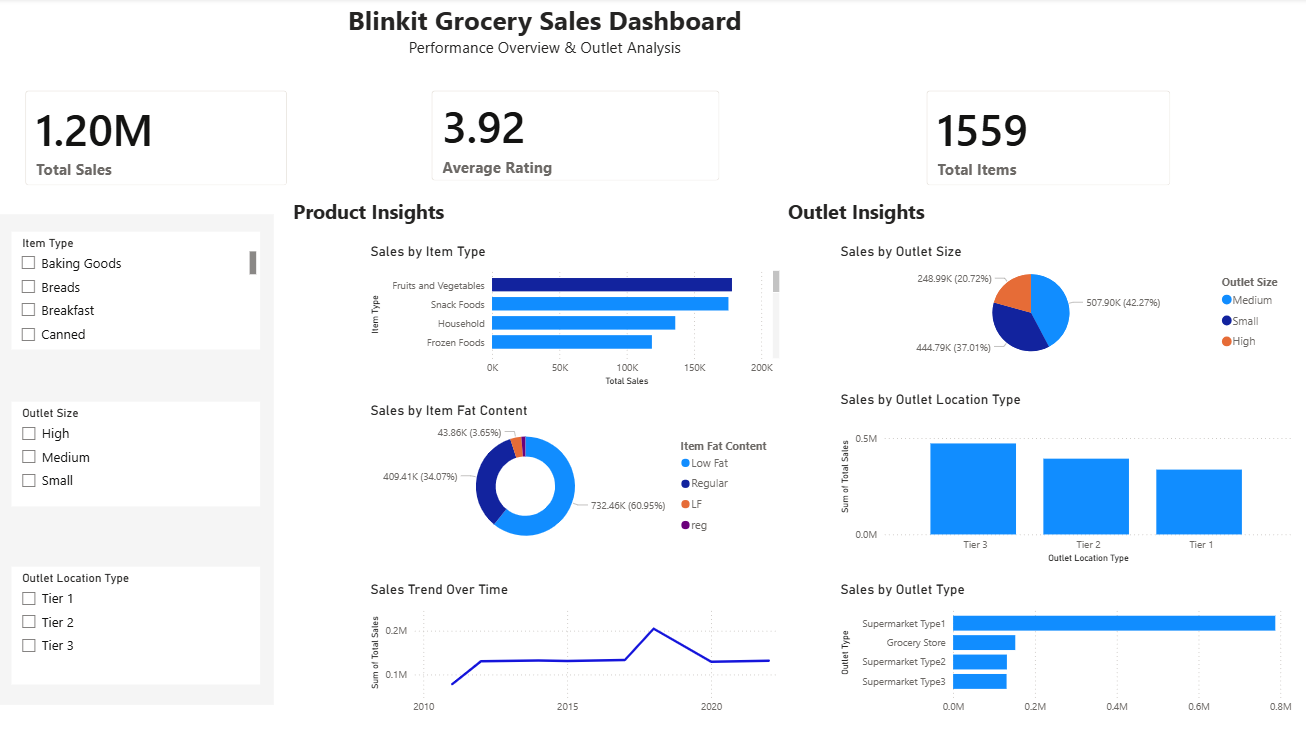

Layout of this report page (visuals, bound fields, positions):
{"tool":"powerbi","page":{"name":"Page 1","canvas":[1600,900],"ordinal":0},"visuals":[{"type":"shape","box":[0,264,336,600],"z":0},{"type":"cardVisual","fields":{"Data":["Avg(BlinkIT-Grocery-Data csv.Rating)"]},"box":[512,96,386,144],"z":2000},{"type":"clusteredBarChart","title":"Sales by Item Type","fields":{"Category":["BlinkIT-Grocery-Data csv.Item Type"],"Y":["Sum(BlinkIT-Grocery-Data csv.Sales)"]},"box":[450,300,510,180],"z":4000},{"type":"donutChart","title":"Sales by Item Fat Content","fields":{"Category":["BlinkIT-Grocery-Data csv.Item Fat Content"],"Y":["Sum(BlinkIT-Grocery-Data csv.Sales)"]},"box":[450,494,510,186],"z":5000},{"type":"pieChart","title":"Sales by Outlet Size","fields":{"Category":["BlinkIT-Grocery-Data csv.Outlet Size"],"Y":["Sum(BlinkIT-Grocery-Data csv.Sales)"]},"box":[1024,300,562,150],"z":6000},{"type":"clusteredColumnChart","title":"Sales by Outlet Location Type","fields":{"Category":["BlinkIT-Grocery-Data csv.Outlet Location Type"],"Y":["Sum(BlinkIT-Grocery-Data csv.Sales)"]},"box":[1024,480,562,216],"z":7000},{"type":"clusteredBarChart","title":"Sales by Outlet Type","fields":{"Category":["BlinkIT-Grocery-Data csv.Outlet Type"],"Y":["Sum(BlinkIT-Grocery-Data csv.Sales)"]},"box":[1024,712,562,172],"z":8000},{"type":"lineChart","title":"Sales Trend Over Time","fields":{"Category":["BlinkIT-Grocery-Data csv.Outlet Establishment Year"],"Y":["Sum(BlinkIT-Grocery-Data csv.Sales)"]},"box":[450,712,510,172],"z":9000},{"type":"slicer","fields":{"Values":["BlinkIT-Grocery-Data csv.Item Type"]},"box":[16,286,304,144],"z":10000},{"type":"slicer","fields":{"Values":["BlinkIT-Grocery-Data csv.Outlet Size"]},"box":[16,494,304,128],"z":11000},{"type":"slicer","fields":{"Values":["BlinkIT-Grocery-Data csv.Outlet Location Type"]},"box":[16,696,304,144],"z":12000},{"type":"textbox","box":[80,0,1136,96],"z":13000},{"type":"textbox","box":[354,240,220,46],"z":13001},{"type":"textbox","box":[960,240,210,46],"z":13002},{"type":"cardVisual","fields":{"Data":["BlinkIT-Grocery-Data csv.Total Items"]},"box":[1118,96,332,150],"z":13003},{"type":"cardVisual","fields":{"Data":["Sum(BlinkIT-Grocery-Data csv.Total Sales)"]},"box":[16,96,354,150],"z":13004}]}

Visuals, with their boxes in screenshot pixels (x1, y1, x2, y2), scaled from the page's 1600x900 canvas onto the 1306x733 screenshot:
shape: box=[0, 215, 274, 704]
cardVisual - Avg(BlinkIT-Grocery-Data csv.Rating): box=[418, 78, 733, 195]
"Sales by Item Type" clusteredBarChart: box=[367, 244, 784, 391]
"Sales by Item Fat Content" donutChart: box=[367, 402, 784, 554]
"Sales by Outlet Size" pieChart: box=[836, 244, 1295, 366]
"Sales by Outlet Location Type" clusteredColumnChart: box=[836, 391, 1295, 567]
"Sales by Outlet Type" clusteredBarChart: box=[836, 580, 1295, 720]
"Sales Trend Over Time" lineChart: box=[367, 580, 784, 720]
slicer - BlinkIT-Grocery-Data csv.Item Type: box=[13, 233, 261, 350]
slicer - BlinkIT-Grocery-Data csv.Outlet Size: box=[13, 402, 261, 507]
slicer - BlinkIT-Grocery-Data csv.Outlet Location Type: box=[13, 567, 261, 684]
textbox: box=[65, 0, 993, 78]
textbox: box=[289, 195, 469, 233]
textbox: box=[784, 195, 955, 233]
cardVisual - BlinkIT-Grocery-Data csv.Total Items: box=[913, 78, 1184, 200]
cardVisual - Sum(BlinkIT-Grocery-Data csv.Total Sales): box=[13, 78, 302, 200]
